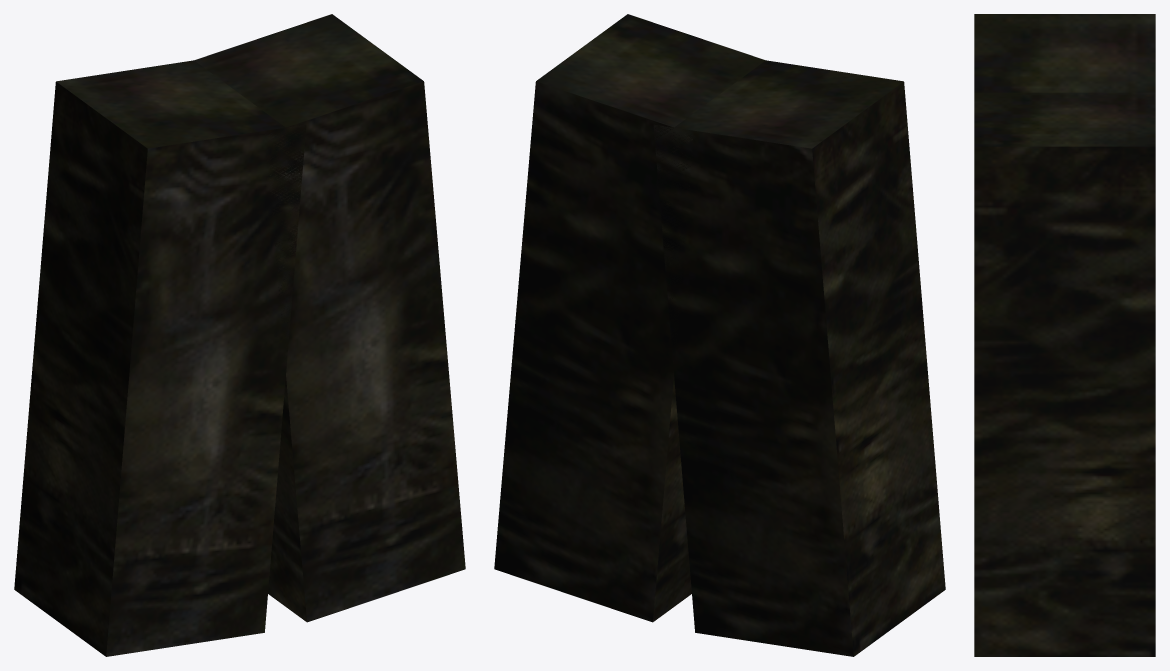
Rendered from arm_cape_legs.obj.
3 renders of one model, left to right at view 1: azimuth 30°, elevation 25°; view 2: azimuth 150°, elevation 25°; view 3: azimuth 270°, elevation 25°, orthographic.
Visible parts, largest first — view 1: arm_jacket_arm.001_Cube.002; view 2: arm_jacket_arm.001_Cube.002; view 3: arm_jacket_arm.001_Cube.002.
Part boxes in pixels (bbox=[...]): arm_jacket_arm.001_Cube.002: bbox=[14, 14, 465, 656]; arm_jacket_arm.001_Cube.002: bbox=[494, 14, 945, 656]; arm_jacket_arm.001_Cube.002: bbox=[974, 14, 1155, 656].
Bounding box in the file's own units: 2.26 × 3.08 × 1.
